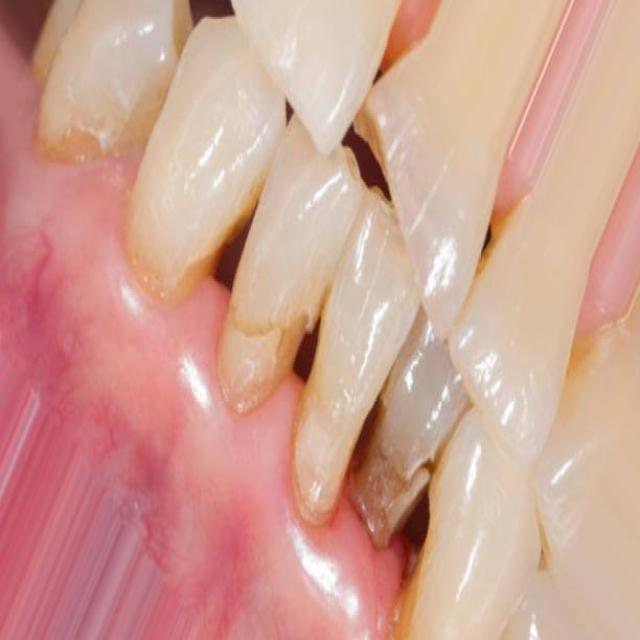caries: (114, 191, 262, 319), (344, 363, 430, 558), (218, 250, 314, 417), (283, 338, 357, 530), (332, 65, 408, 236), (377, 466, 442, 640), (27, 98, 158, 179)
